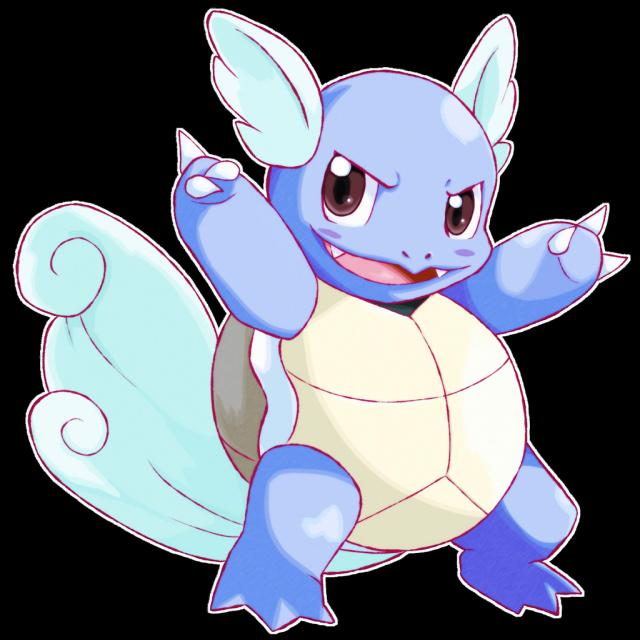Wartortle: (158, 4, 586, 631)
